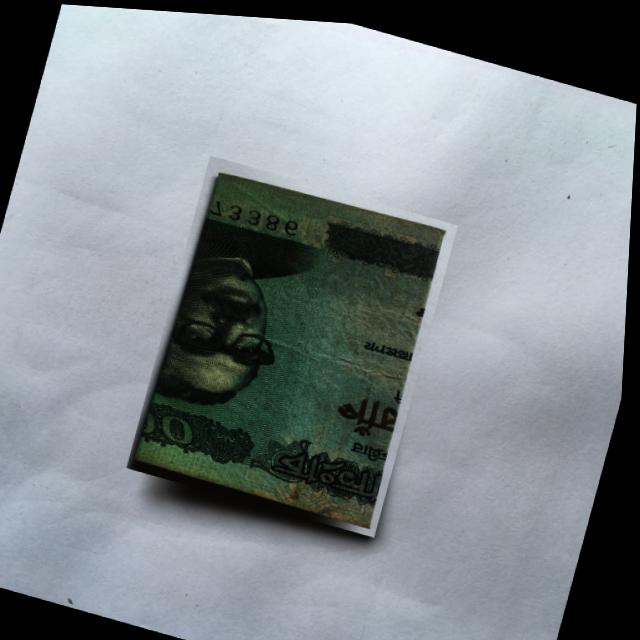Taka: (129, 148, 462, 535)
